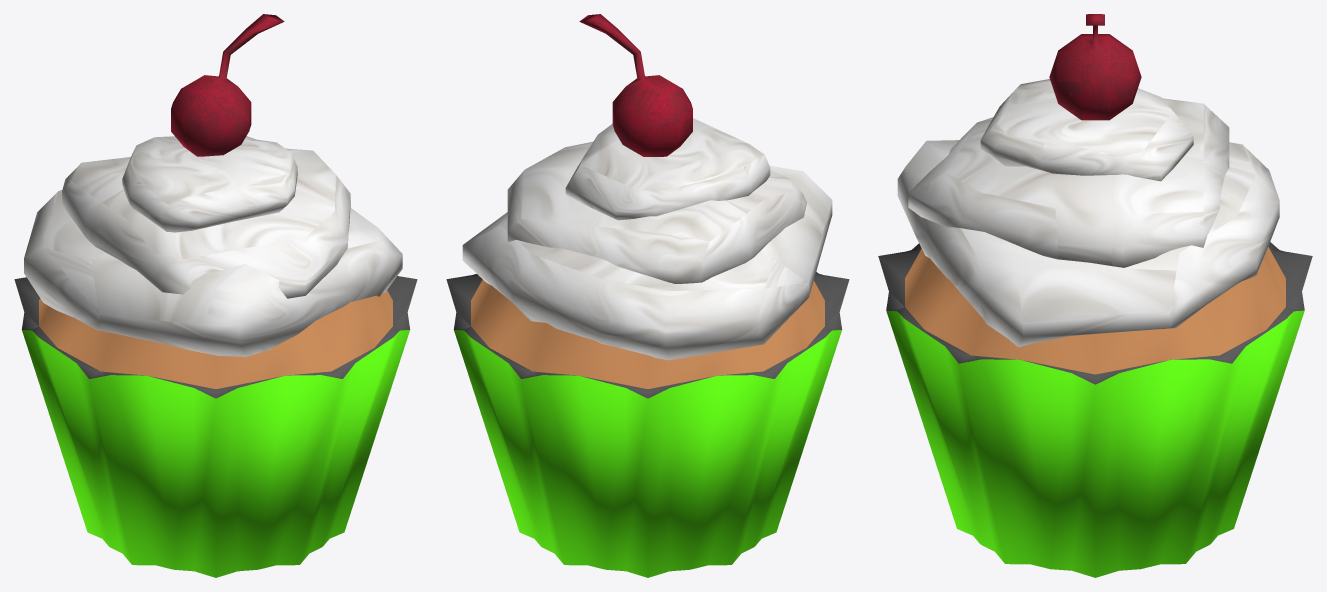
The model's file is CUPCAKE06.FBX.
The picture shows the model from 3 angles, left to right: view 1: azimuth 30°, elevation 25°; view 2: azimuth 150°, elevation 25°; view 3: azimuth 270°, elevation 25°; orthographic projection. The views are drawn at different scales.
Visible parts, largest first — view 1: Cylinder001, Box003, Object002, Object001, Sphere001; view 2: Cylinder001, Box003, Object002, Object001, Sphere001; view 3: Cylinder001, Box003, Object002, Object001, Sphere001.
Part boxes in pixels (x1,y1,x2,y2): Cylinder001: [14, 276, 417, 577]; Box003: [24, 190, 402, 356]; Object002: [62, 148, 350, 298]; Object001: [122, 136, 297, 232]; Sphere001: [171, 14, 284, 156]; Cylinder001: [446, 272, 849, 577]; Box003: [462, 166, 832, 360]; Object002: [507, 141, 806, 283]; Object001: [565, 118, 770, 220]; Sphere001: [579, 14, 692, 156]; Cylinder001: [878, 242, 1312, 577]; Box003: [897, 140, 1279, 347]; Object002: [908, 98, 1229, 267]; Object001: [980, 79, 1193, 181]; Sphere001: [1049, 14, 1141, 120].
Bounding box in the file's own units: 50.19 × 67.93 × 50.35.
Materials: 5 (2 with a texture image).
